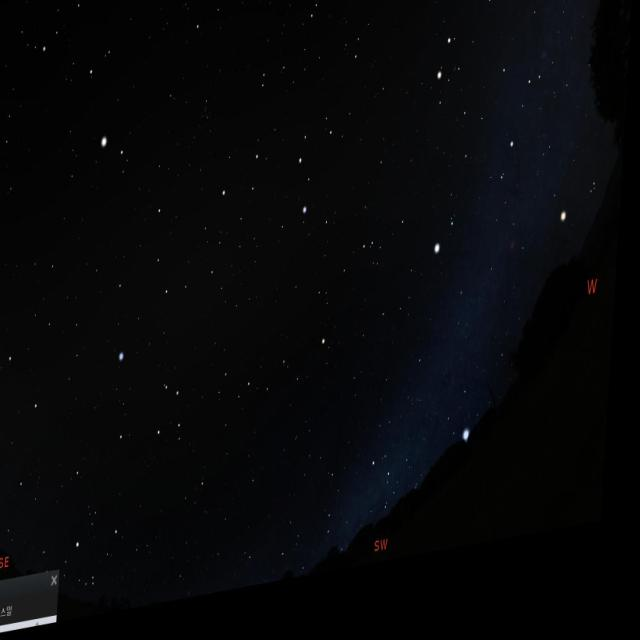bootes: (54, 0, 146, 183)
canis_minor: (429, 219, 466, 287)
gemini: (432, 25, 546, 198)
leo: (217, 128, 346, 264)
